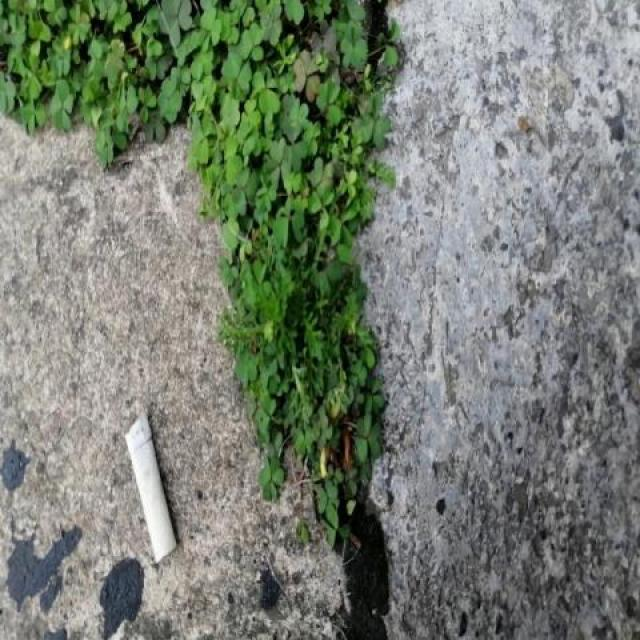non-organic waste: (119, 408, 182, 567)
